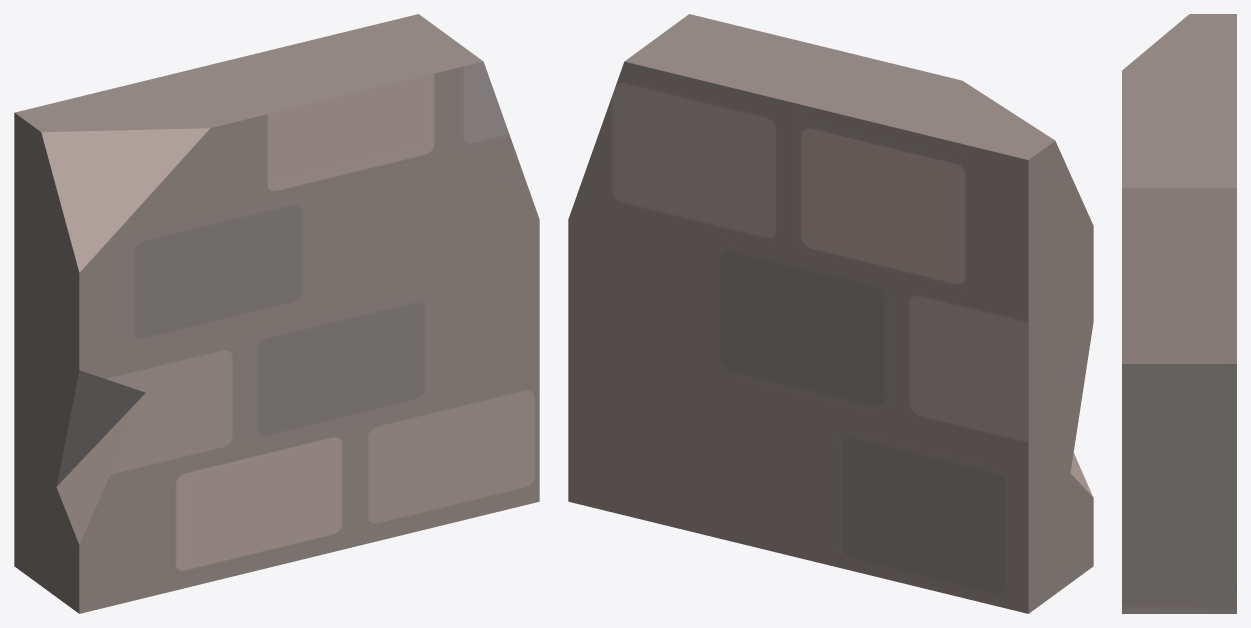
Rendered from SM_SmallWall_05.fbx.
The picture shows the model from 3 angles, left to right: view 1: azimuth 30°, elevation 25°; view 2: azimuth 150°, elevation 25°; view 3: azimuth 270°, elevation 25°; orthographic projection. The views are drawn at different scales.
Visible parts, largest first — view 1: SM_SmallWall_05; view 2: SM_SmallWall_05; view 3: SM_SmallWall_05.
Part boxes in pixels (box(x1,y1,x2,y2)): SM_SmallWall_05: box(14, 14, 539, 613); SM_SmallWall_05: box(568, 14, 1093, 613); SM_SmallWall_05: box(1122, 14, 1236, 613).
Size of the model in its own units: 1.01 by 0.9481 by 0.246.
